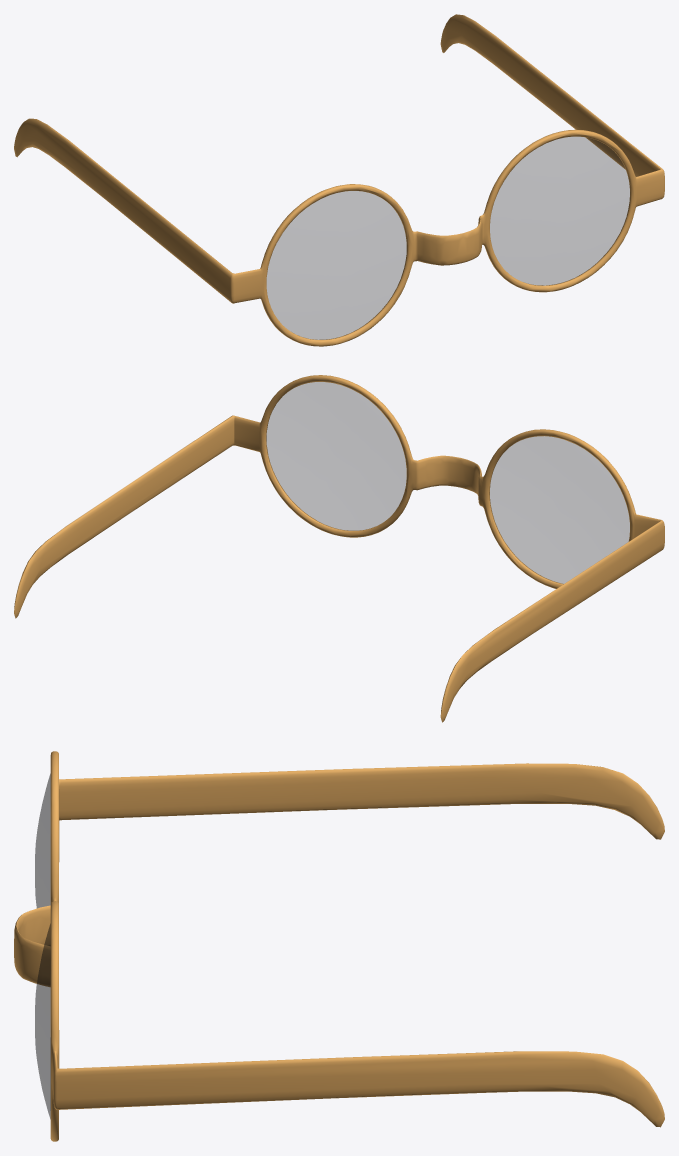
The model's file is eyewear-glasses-yellow-60a9b5ba.glb.
3 renders of one model, top to bottom at view 1: azimuth 30°, elevation 25°; view 2: azimuth 150°, elevation 25°; view 3: azimuth 270°, elevation 25°, orthographic. The views are drawn at different scales.
Parts seen in each view (by area): view 1: Geo_Black_Old_Male_Glasses_Yellow.001; view 2: Geo_Black_Old_Male_Glasses_Yellow.001; view 3: Geo_Black_Old_Male_Glasses_Yellow.001.
Part boxes in pixels (bbox=[...]): Geo_Black_Old_Male_Glasses_Yellow.001: bbox=[14, 14, 664, 346]; Geo_Black_Old_Male_Glasses_Yellow.001: bbox=[14, 375, 664, 722]; Geo_Black_Old_Male_Glasses_Yellow.001: bbox=[14, 751, 664, 1141].
Bounding box in the file's own units: 1.35 × 0.4685 × 1.27.
